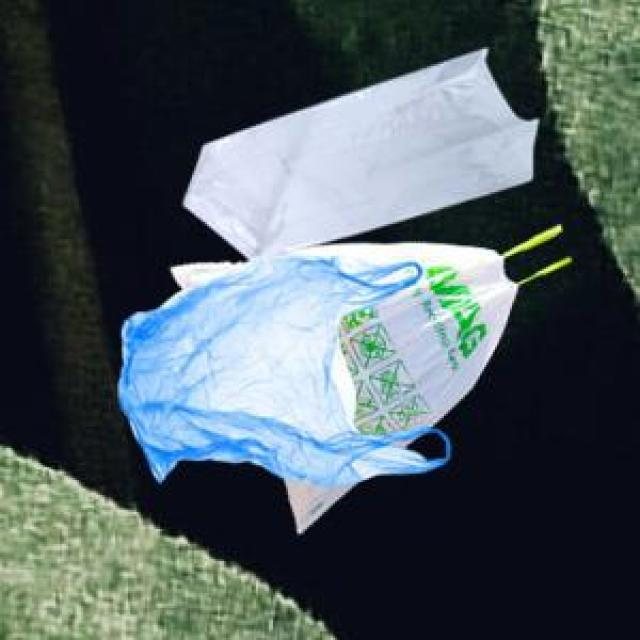Single-layer Plastic: (184, 49, 539, 257), (119, 254, 430, 488), (300, 242, 518, 434)
